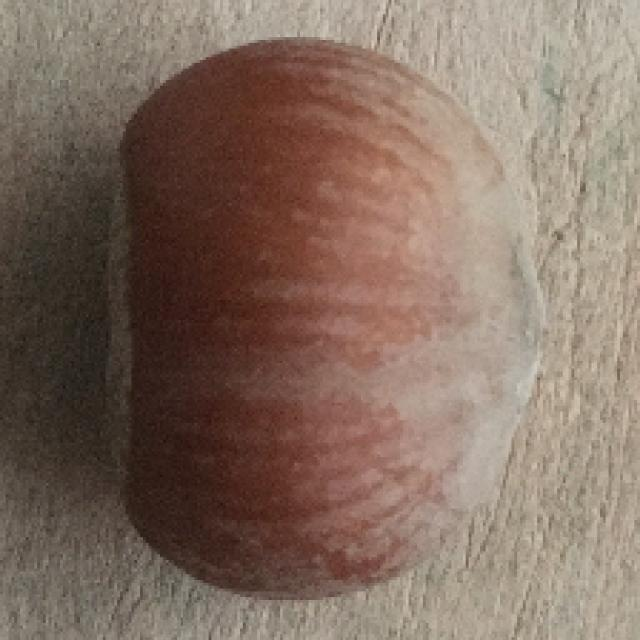qualityHazelnut: (109, 38, 548, 600)
